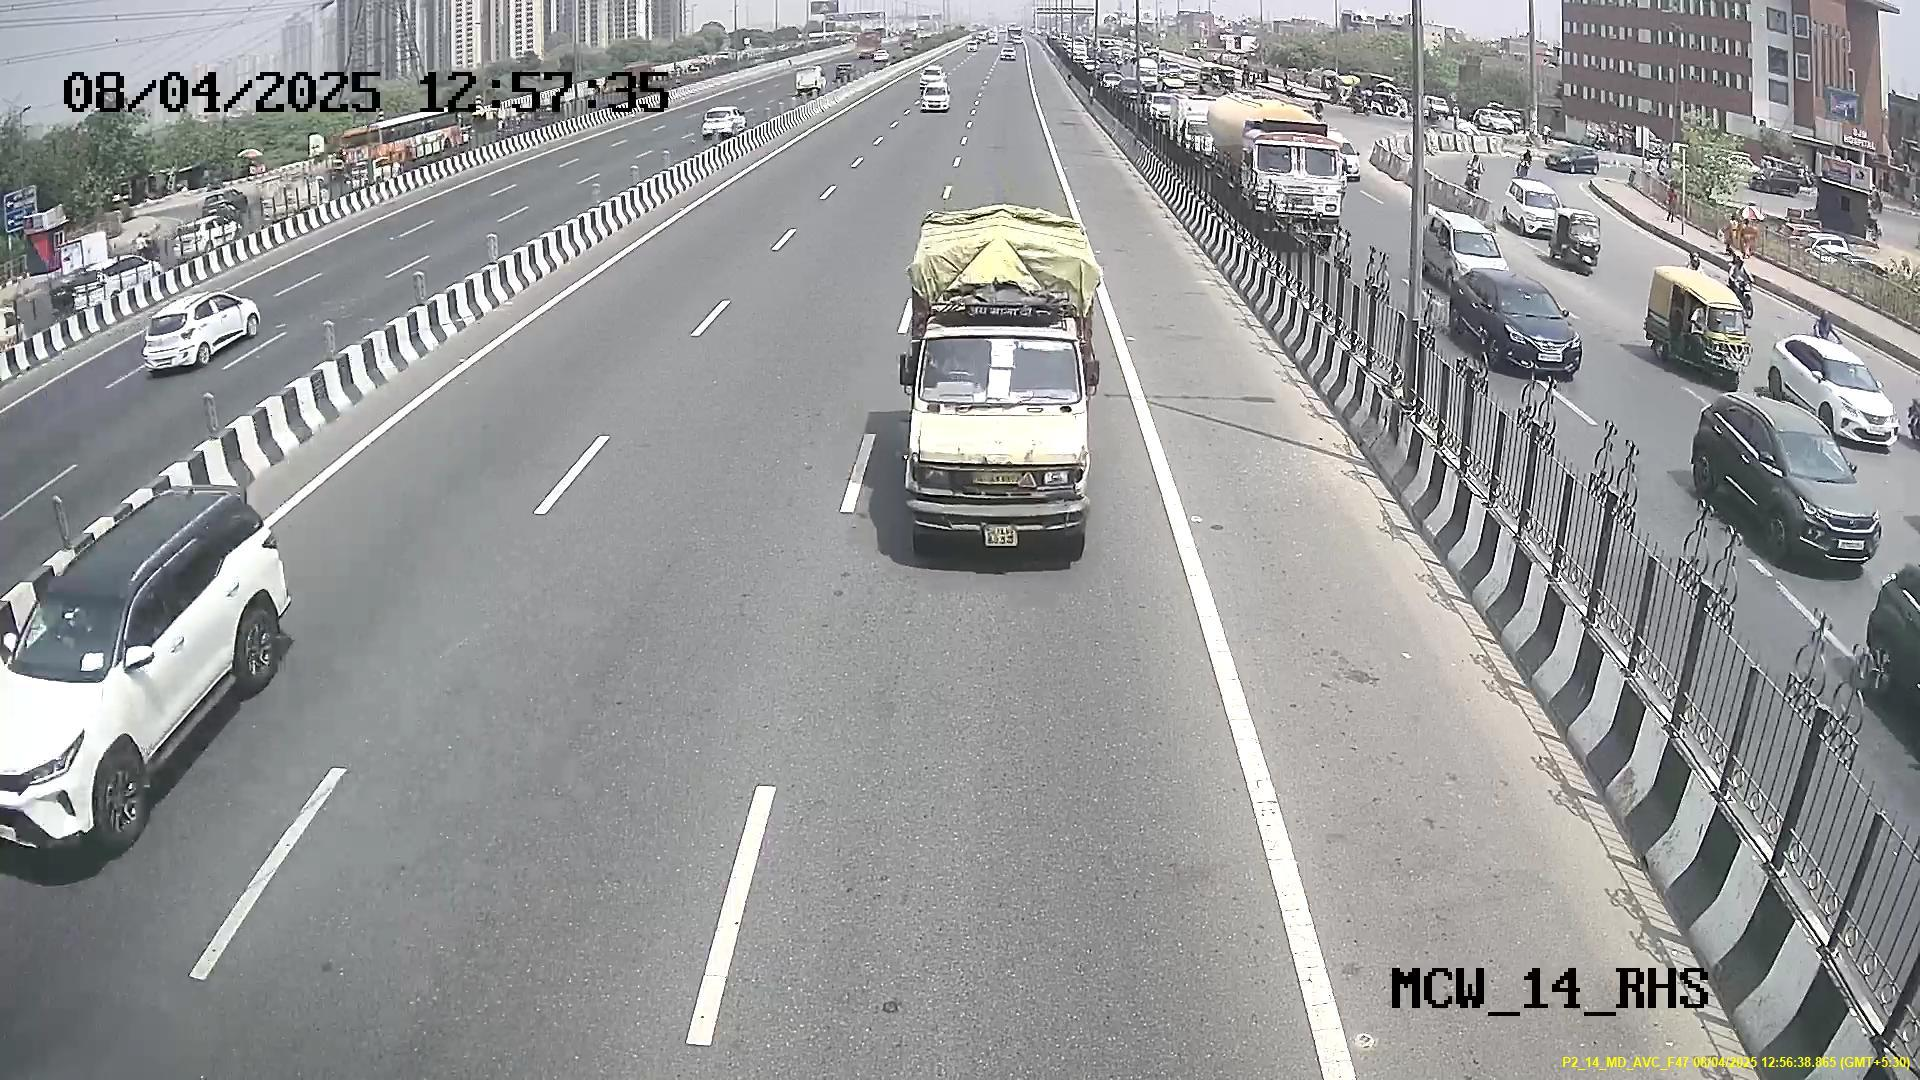lcv: (889, 298, 1098, 559)
